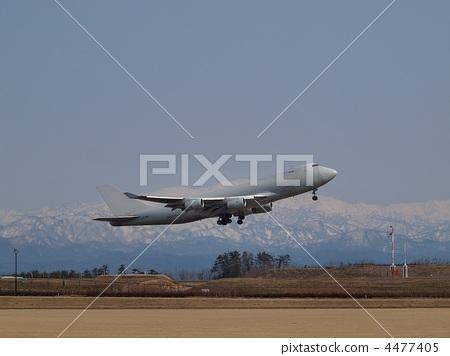airplane: (88, 156, 347, 234)
